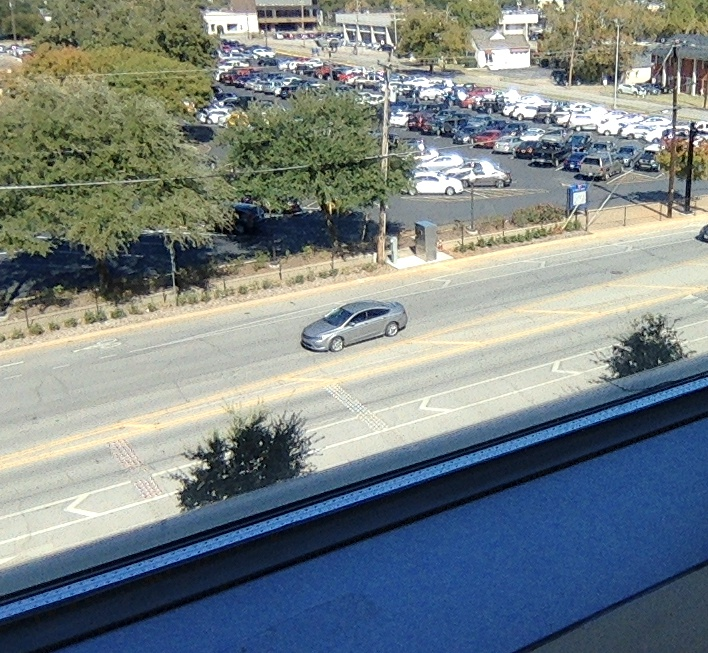car: (300, 300, 408, 353)
